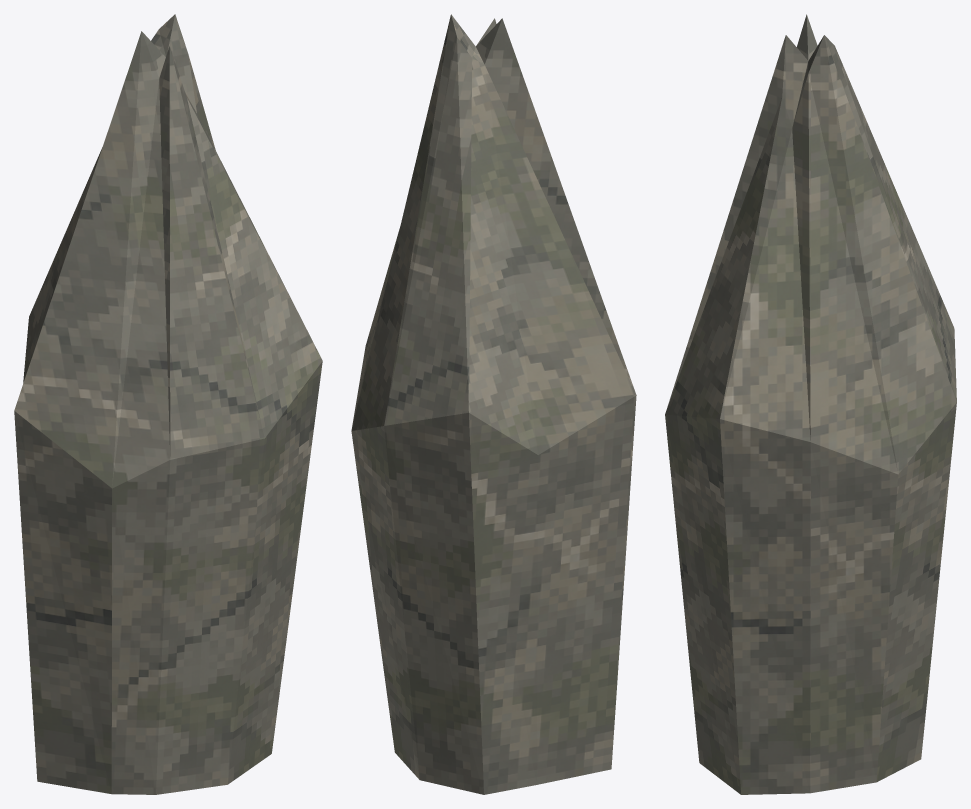
The model's file is Masso_06_Scheggia.obj.
3 renders of one model, left to right at view 1: azimuth 30°, elevation 25°; view 2: azimuth 150°, elevation 25°; view 3: azimuth 270°, elevation 25°, orthographic.
Visible parts, largest first — view 1: Masso_06_Scheggia; view 2: Masso_06_Scheggia; view 3: Masso_06_Scheggia.
Part boxes in pixels (<box>): Masso_06_Scheggia: <box>14,14,322,794</box>; Masso_06_Scheggia: <box>351,14,636,794</box>; Masso_06_Scheggia: <box>665,14,956,794</box>.
Size of the model in its own units: 0.7 by 1.8 by 0.65.
Materials: 1 (1 with a texture image).
